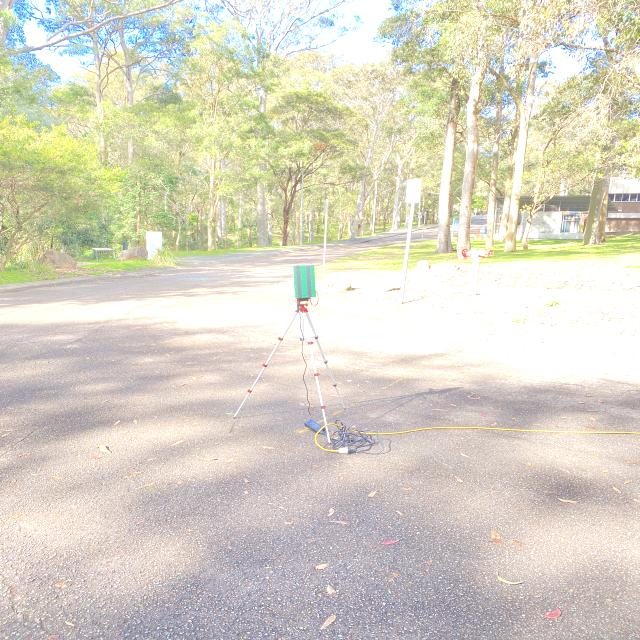matrix: (289, 263, 322, 302)
